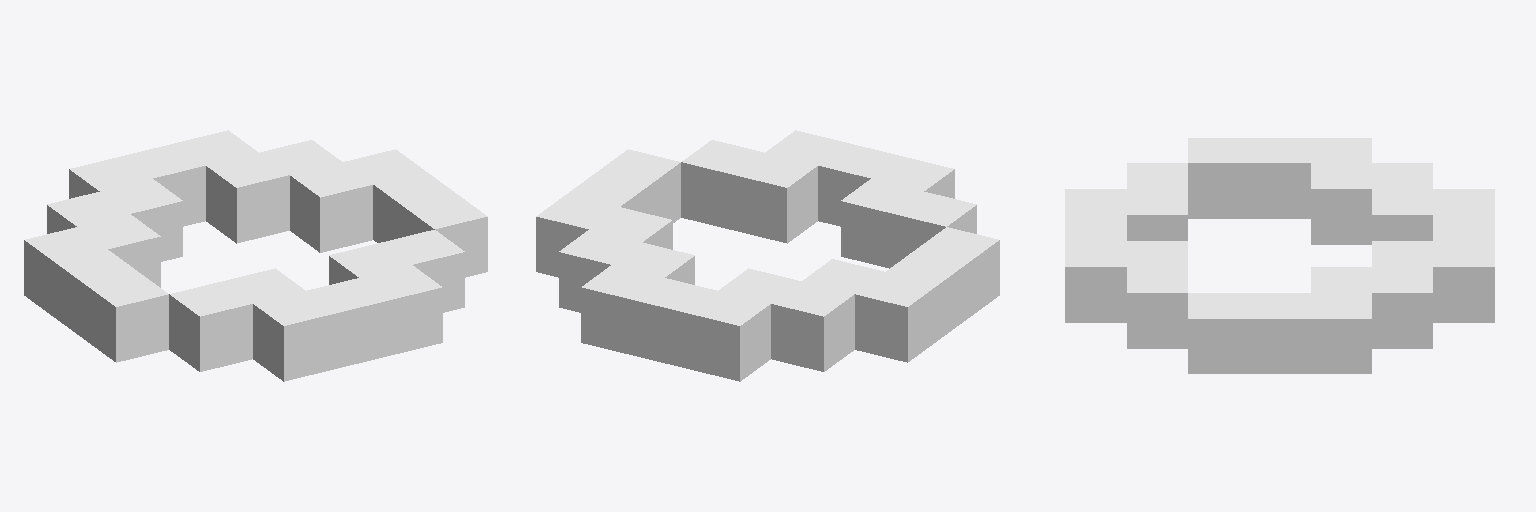
File: eProjectile3.obj
3 renders of one model, left to right at view 1: azimuth 30°, elevation 25°; view 2: azimuth 150°, elevation 25°; view 3: azimuth 270°, elevation 25°, orthographic.
Size of the model in its own units: 7 by 1 by 7.